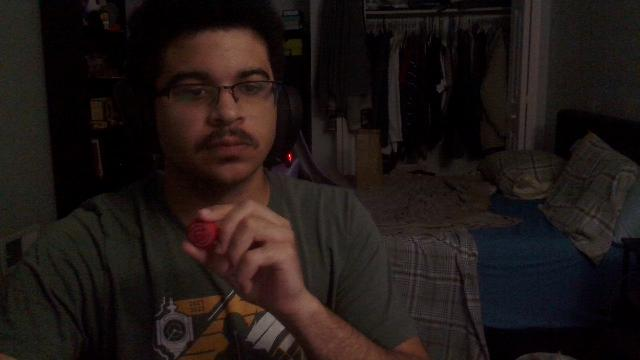cap: (188, 218, 216, 248)
